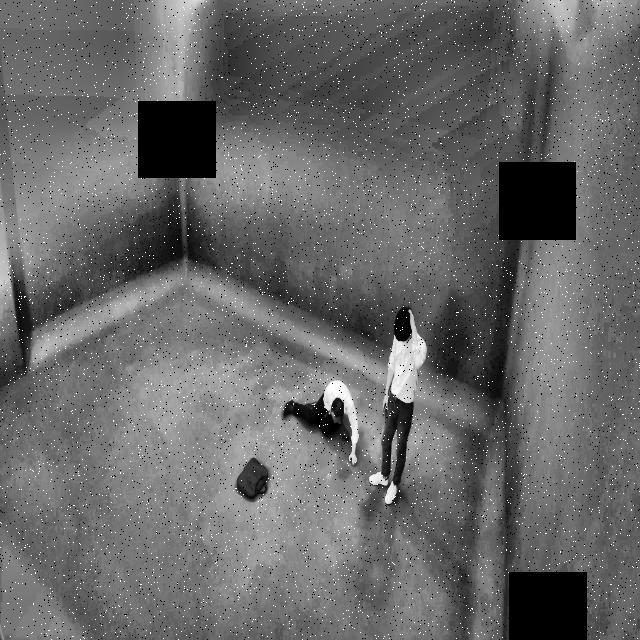assult: (273, 278, 442, 512), (283, 357, 424, 533), (288, 372, 386, 459)
